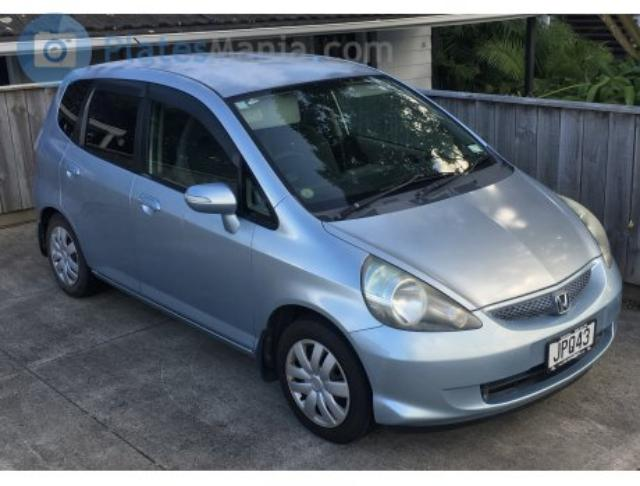Rego: (550, 318, 596, 371)
